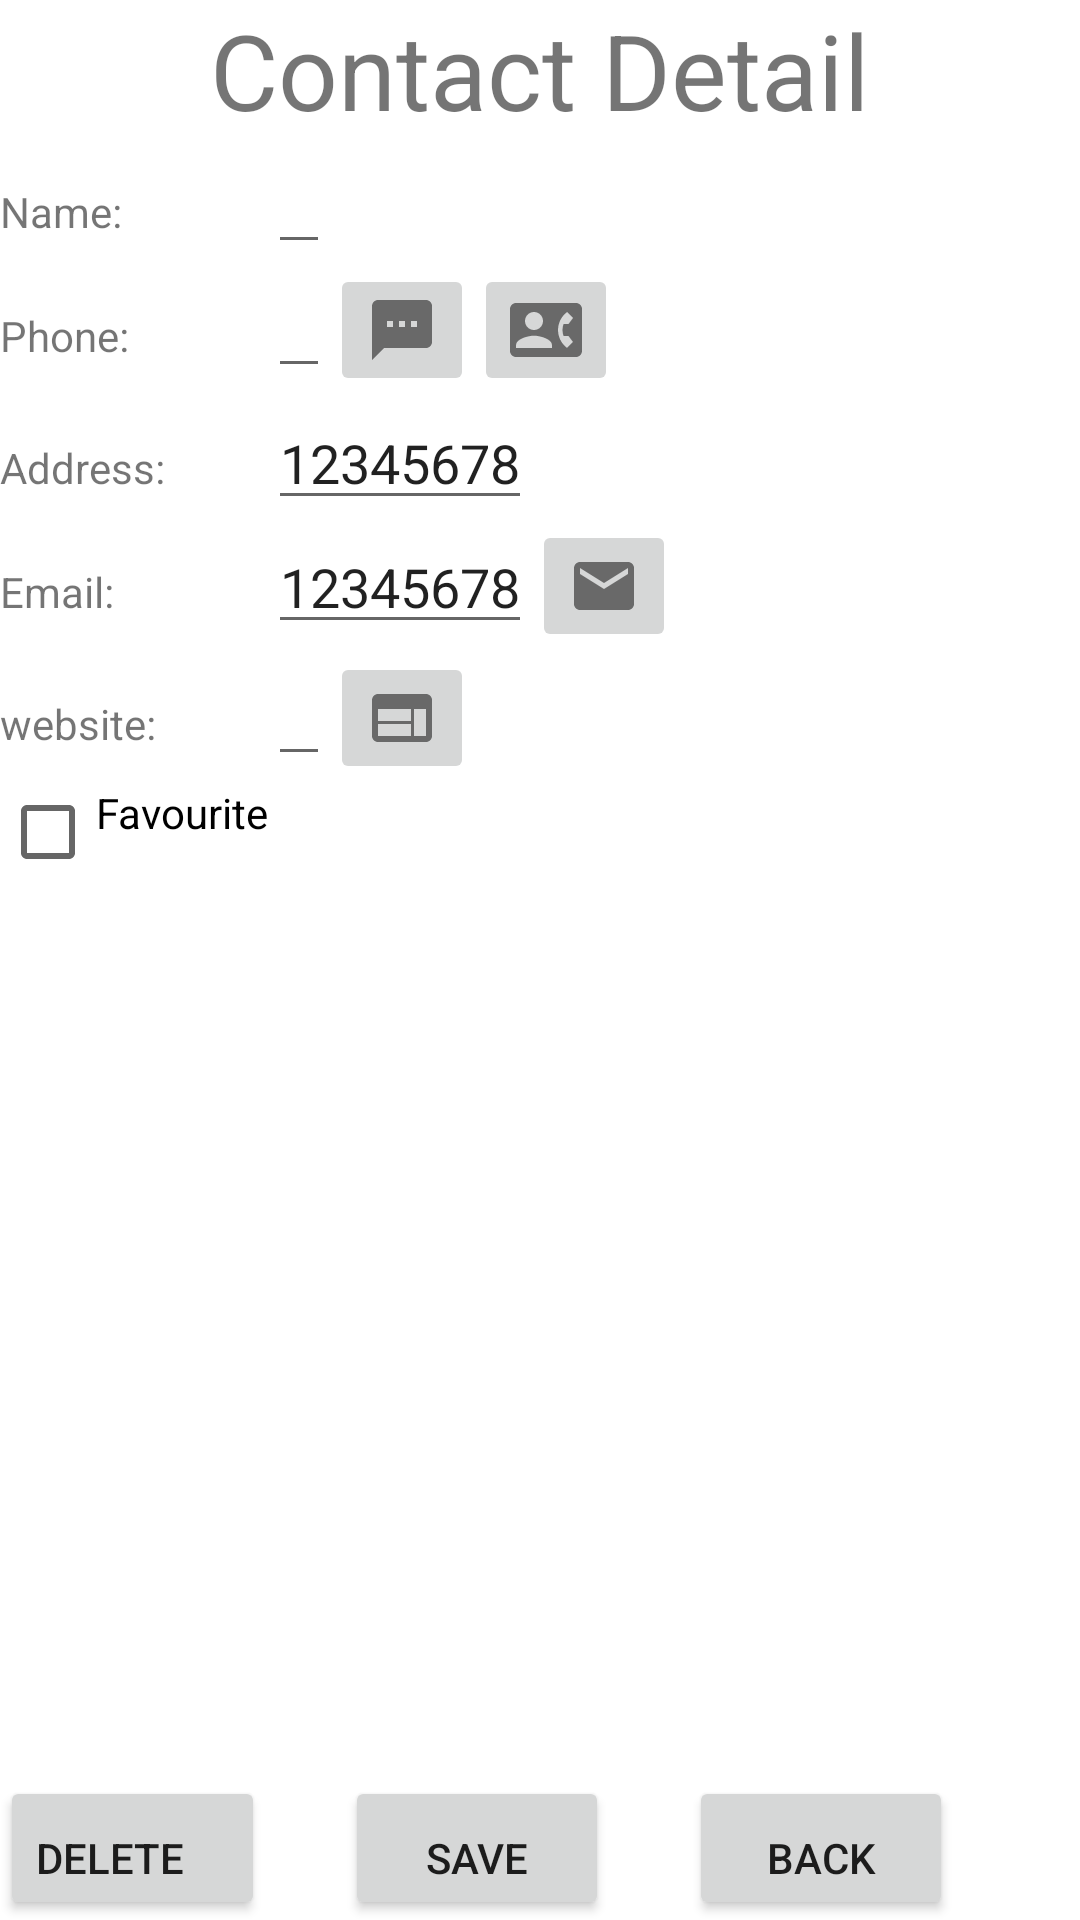

Screen size 1080*1920. Icon name, then its box in pixels as (x1, y1, x2, y2):
contact phone: (486, 282, 606, 378)
email: (544, 538, 664, 634)
web: (342, 670, 462, 766)
